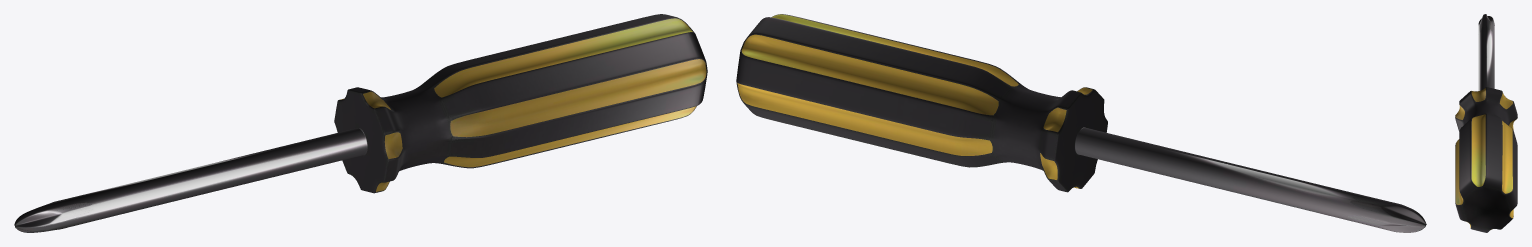
The model's file is 10304_Phillips_Head_ Screwdriver_v1_iterations-2.obj.
3 views of the same model, side by side, from view 1: azimuth 30°, elevation 25°; view 2: azimuth 150°, elevation 25°; view 3: azimuth 270°, elevation 25° (orthographic). The views are drawn at different scales.
Parts seen in each view (by area): view 1: Screwdriver; view 2: Screwdriver; view 3: Screwdriver.
Boxes of the visible parts, x1,y1,x2,y2 form: Screwdriver: [14, 14, 707, 232]; Screwdriver: [736, 14, 1426, 232]; Screwdriver: [1455, 14, 1517, 232].
Size of the model in its own units: 20.9 by 2.84 by 2.84.
1 material, 1 textured.
